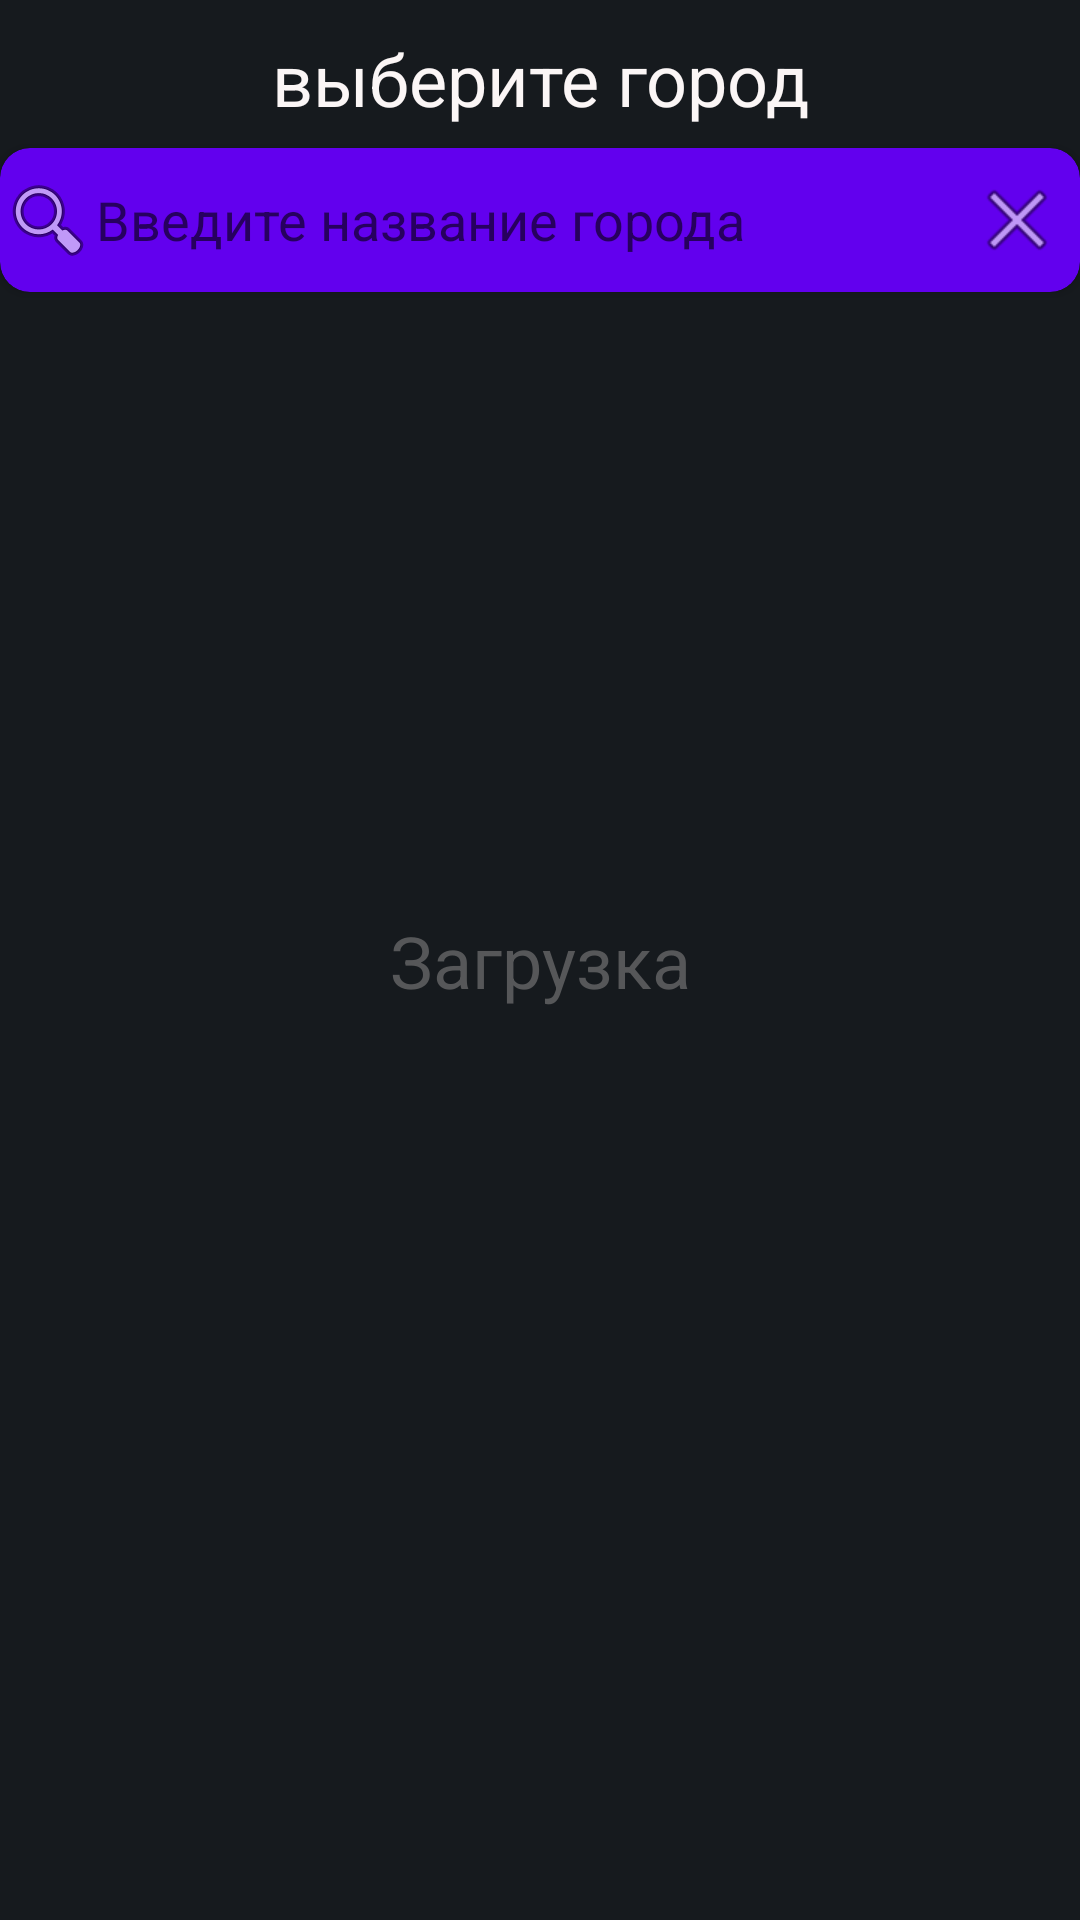

Locate icon controls on the screen. Image size 1080x1920, boxes as (x1, y1, x2, y2).
close clear cancel: (987, 190, 1047, 250)
